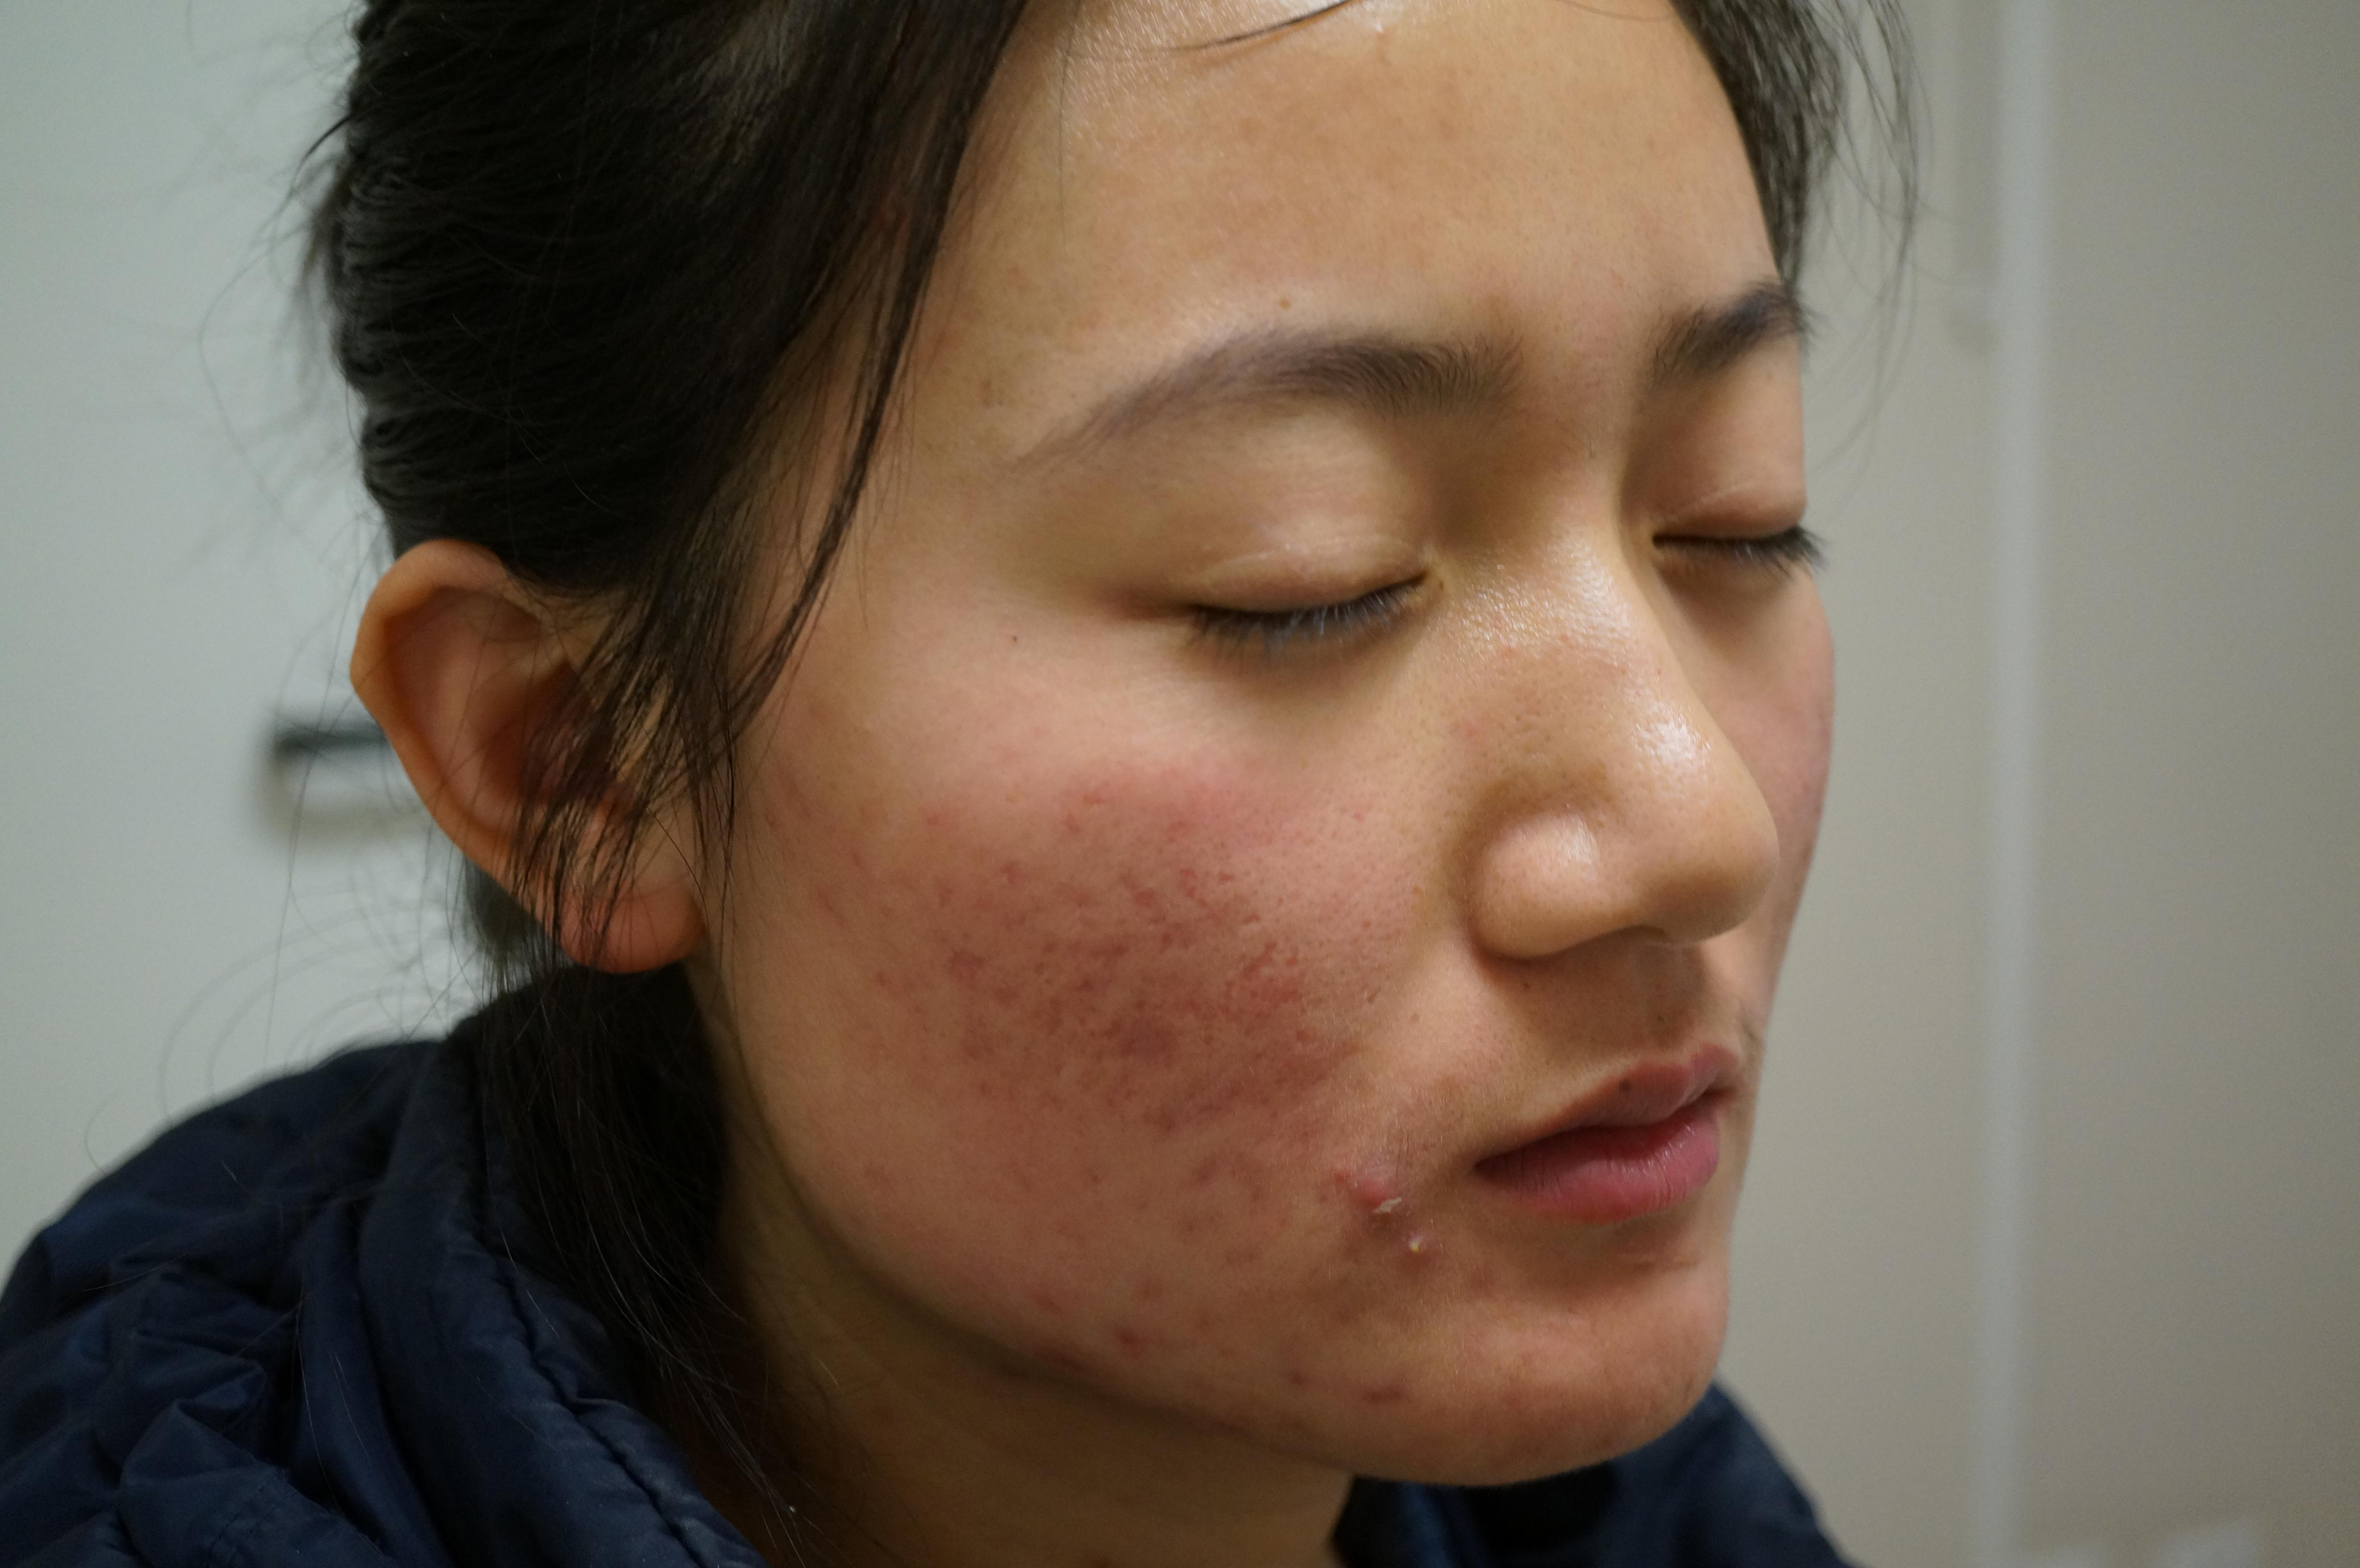fore: (1300, 1132, 1393, 1213), (1212, 940, 1289, 1008), (1253, 1351, 1333, 1412), (1109, 1017, 1184, 1080), (1109, 1295, 1181, 1351), (1361, 1363, 1424, 1423), (1389, 1228, 1445, 1283), (945, 929, 1001, 977)
